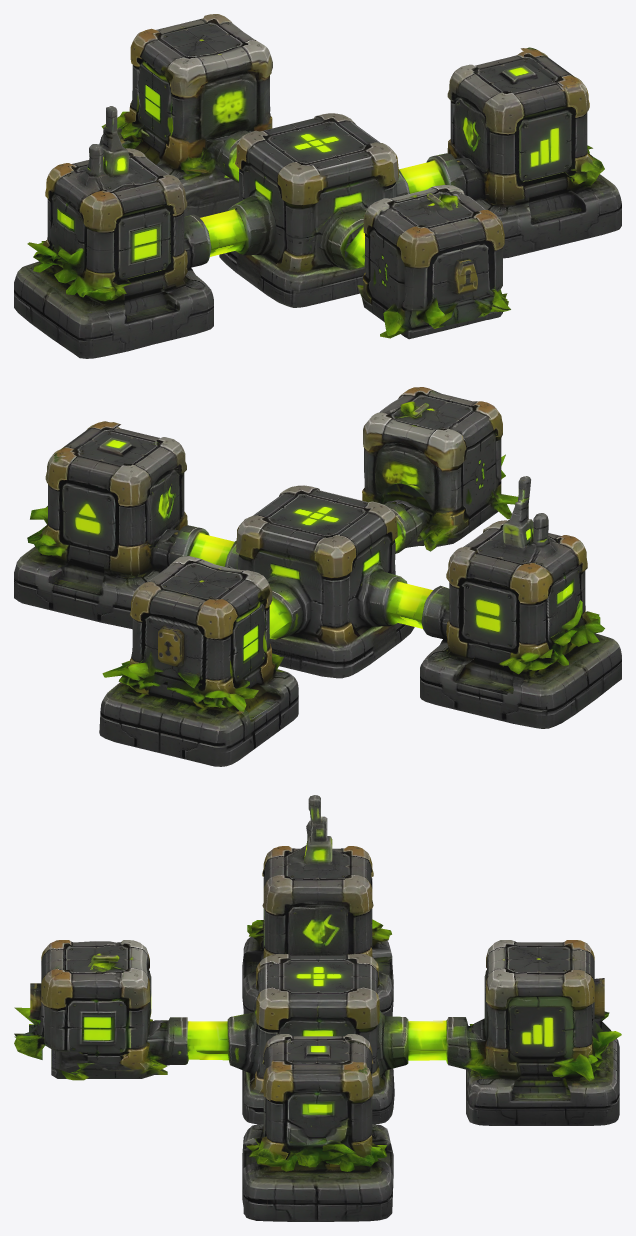
Rendered from desarrollo-completo.glb.
The picture shows the model from 3 angles, top to bottom: view 1: azimuth 30°, elevation 25°; view 2: azimuth 150°, elevation 25°; view 3: azimuth 270°, elevation 25°; orthographic projection. The views are drawn at different scales.
Parts seen in each view (by area): view 1: Mesh_0; view 2: Mesh_0; view 3: Mesh_0.
Boxes of the visible parts, x1,y1,x2,y2 form: Mesh_0: (14, 14, 621, 358); Mesh_0: (14, 387, 621, 766); Mesh_0: (14, 795, 621, 1221).
Bounding box in the file's own units: 2.7 × 1 × 2.72.
Materials: 1 (1 with a texture image).
